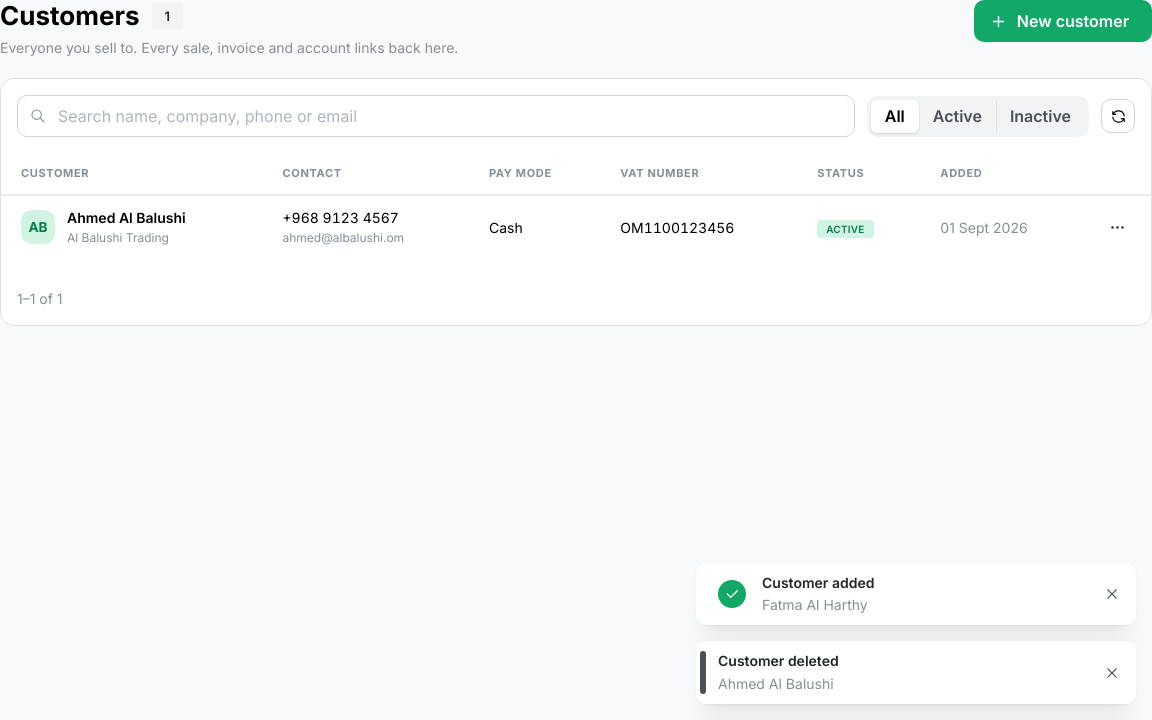
Scenario: deleting › deletes nothing when the question is declined
Click the button named "actions for ahmed".
click(1117, 227)  # box [1103, 213, 1131, 241]
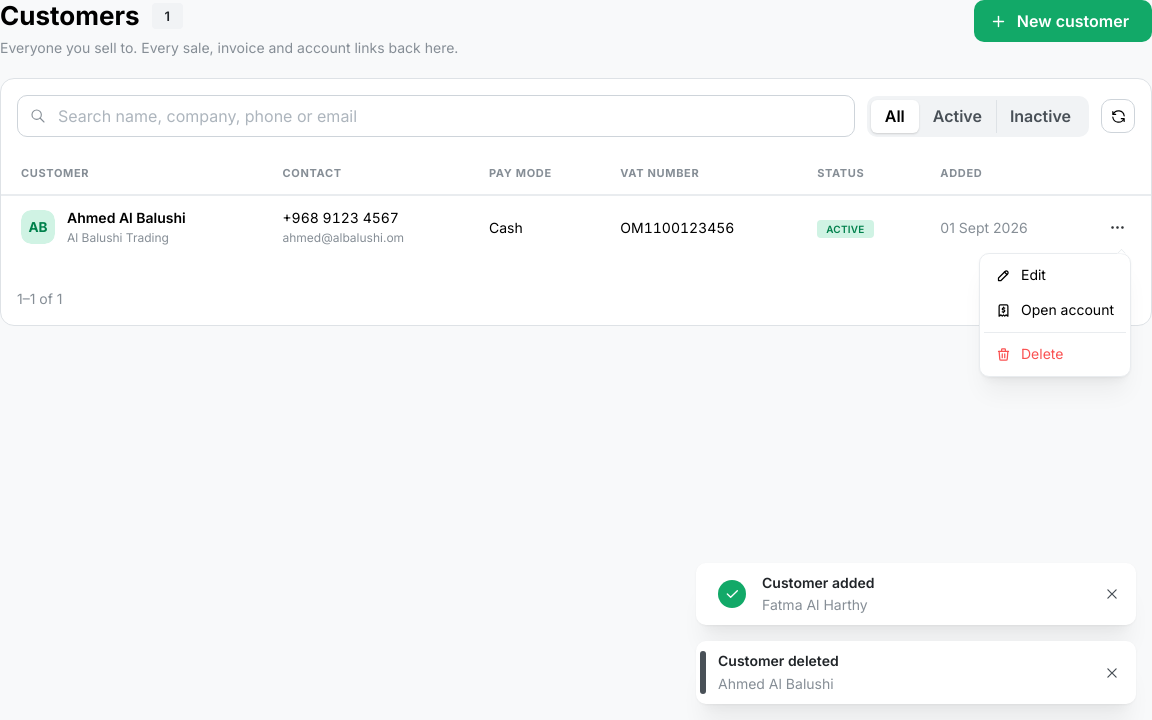
Click the menu item "Delete".
click(1055, 354)  # box [984, 337, 1126, 372]
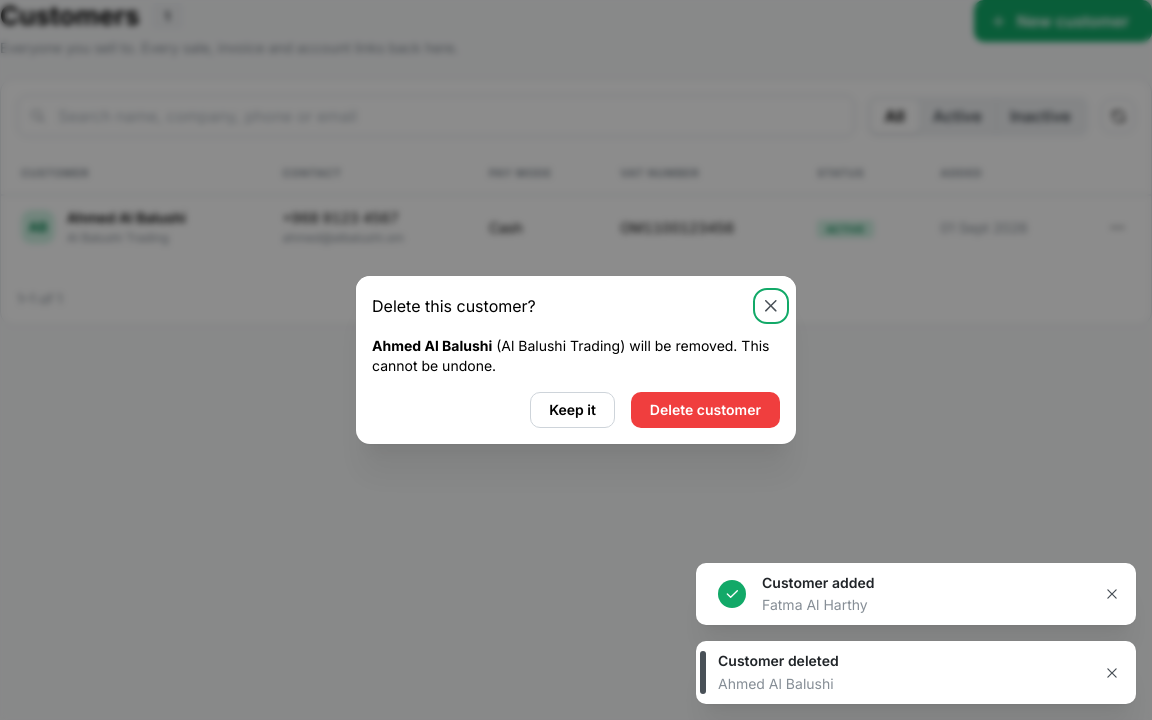
Click the button "Keep it".
click(572, 410)  # box [530, 392, 615, 428]
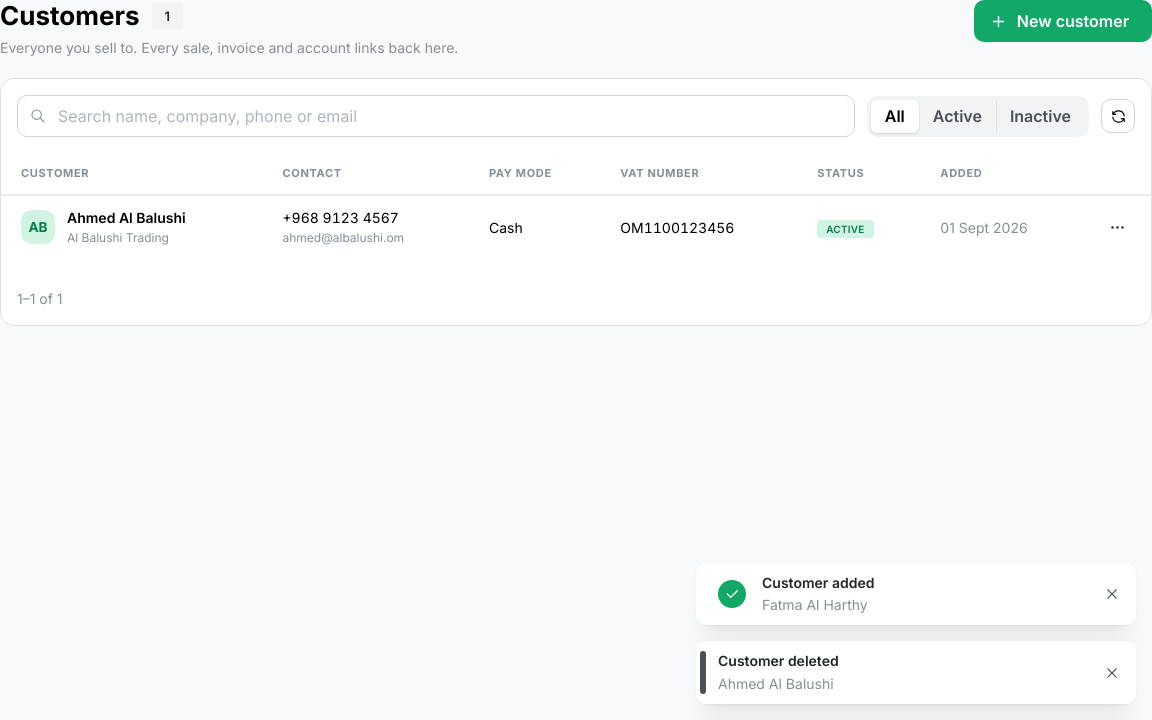
Result: the dialog is gone
